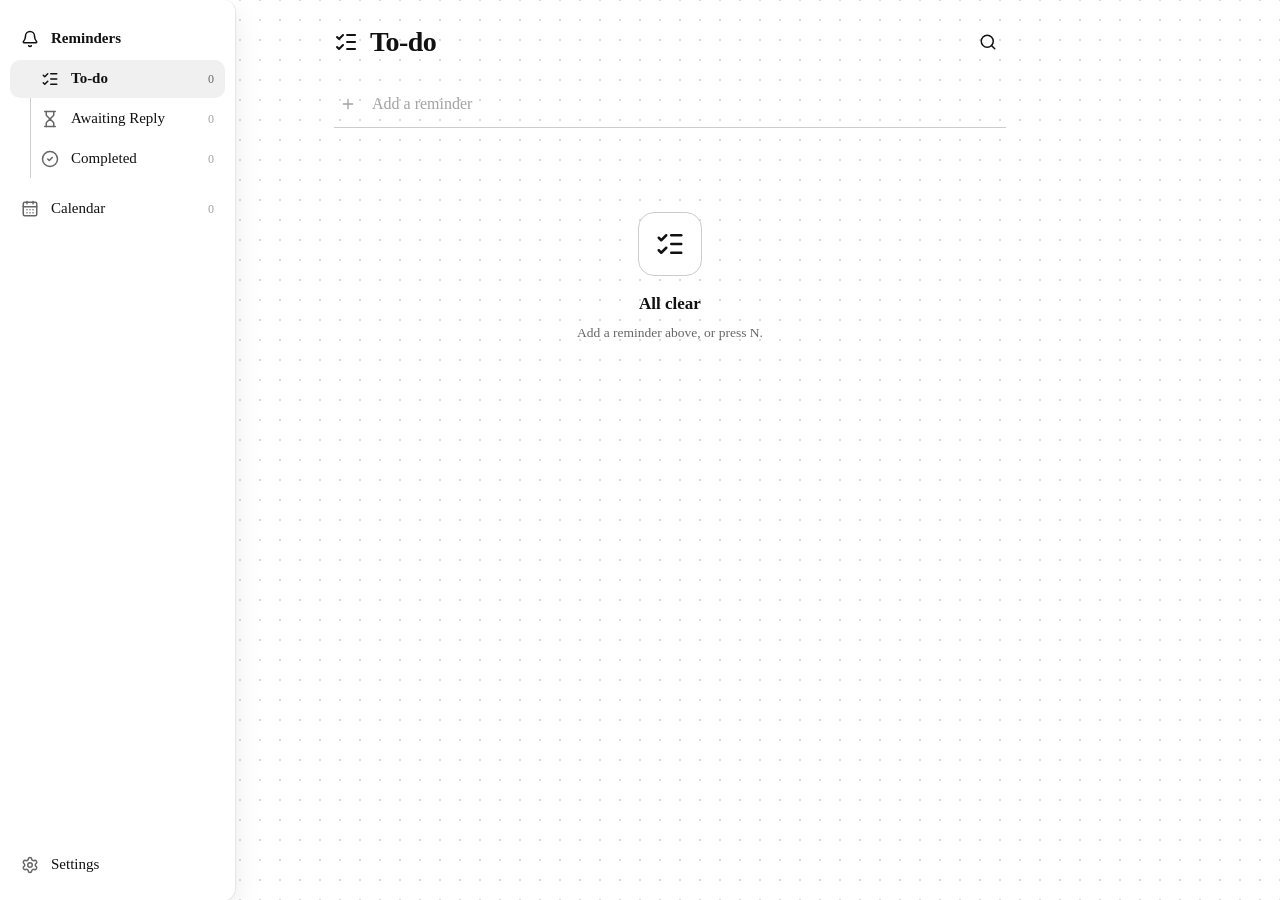
Test case: App › edits details inline
This screenshot has width=1280, height=900.
Type "Dentist" into the field named "Add to To-do" at (686,104), box x1=370 y1=91 x2=1002 y2=116
Then press Enter
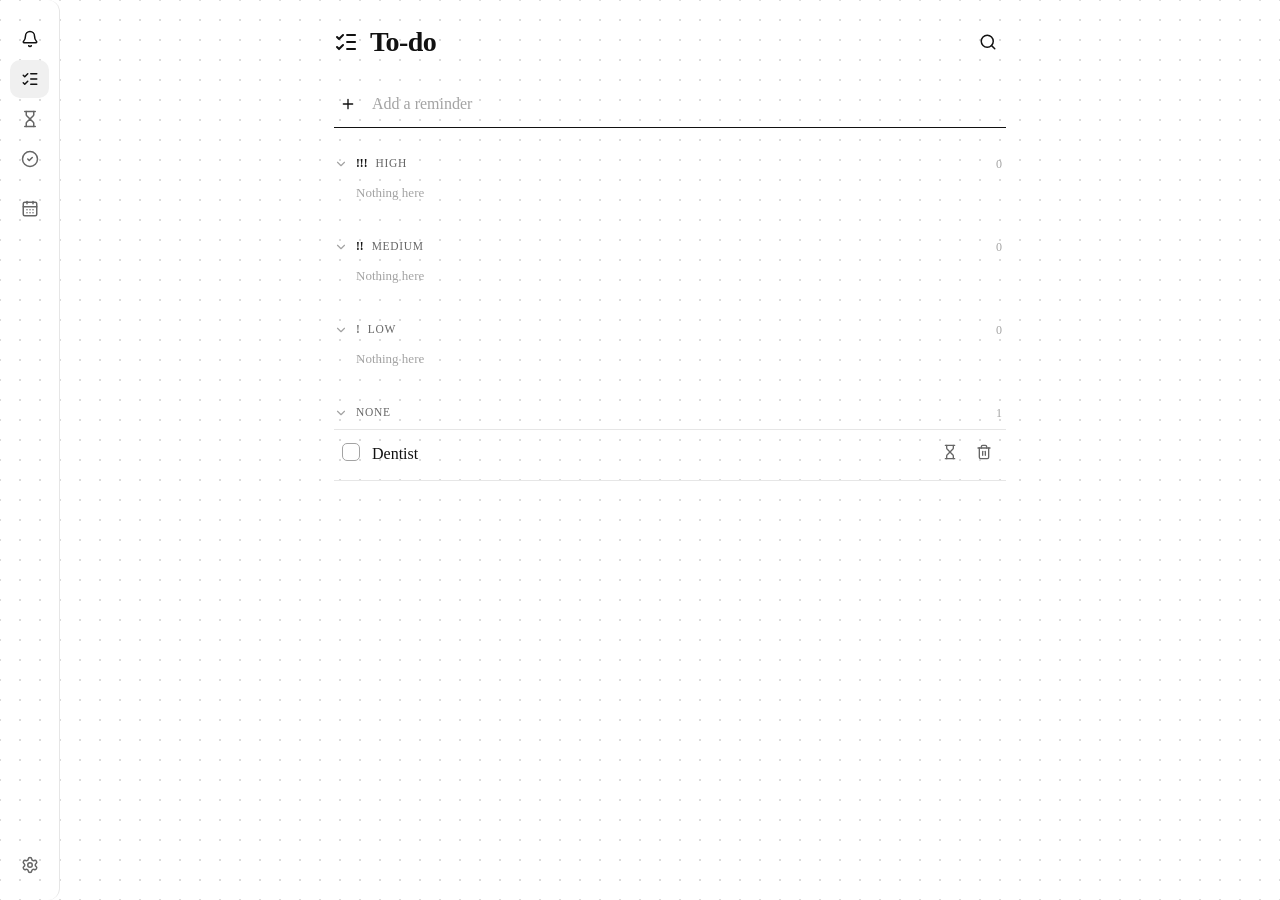
Click the button "Dentist" at (395,453), box x1=372 y1=442 x2=922 y2=465
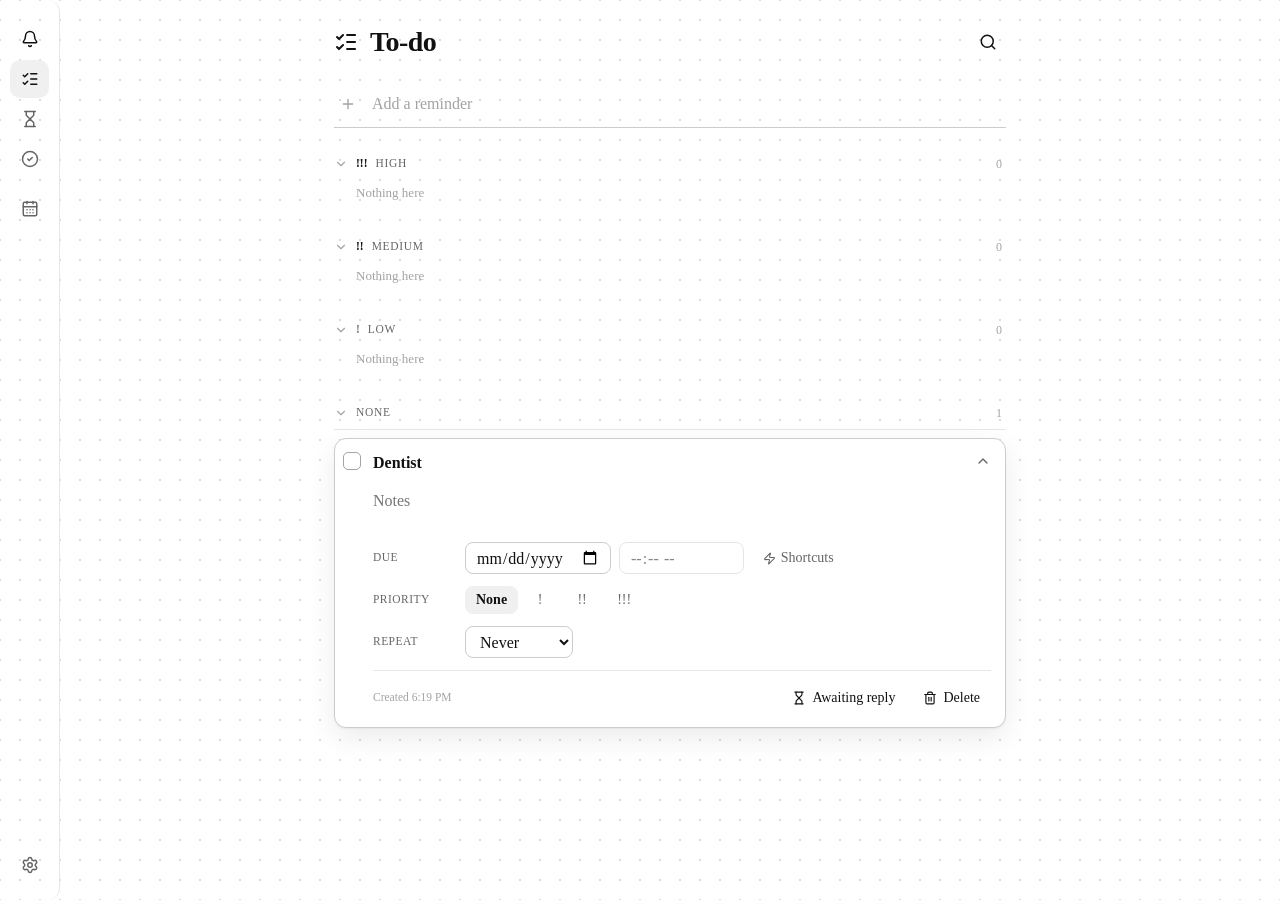
Type "Bring insurance card" into the text box labelled "Notes" at (682,509), box x1=373 y1=488 x2=991 y2=530
Click the button "!!!" at (624,600), box x1=604 y1=586 x2=644 y2=614
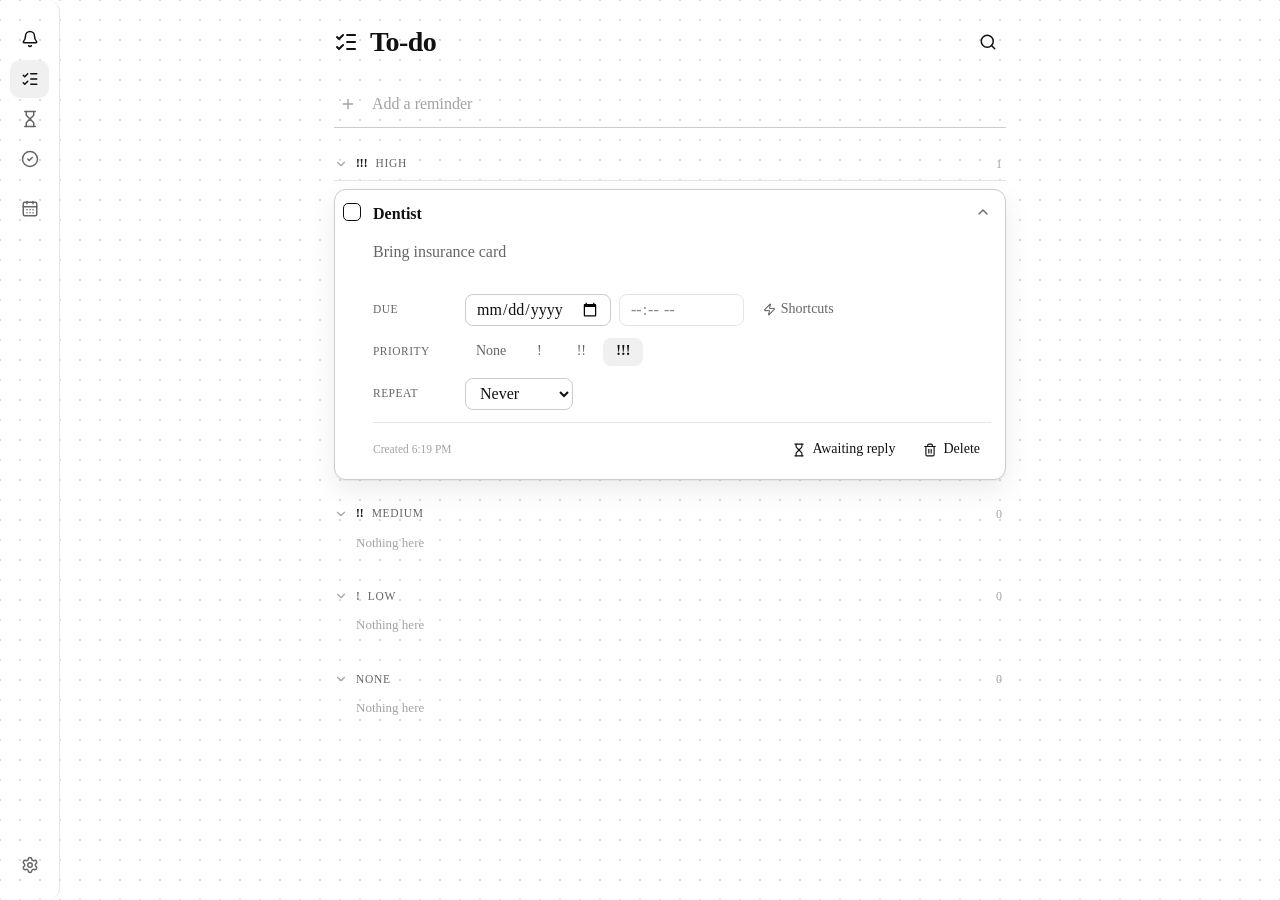
expect the button "Tomorrow" is not shown: met
Click the button "Shortcuts" at (798,310), box x1=752 y1=296 x2=845 y2=324
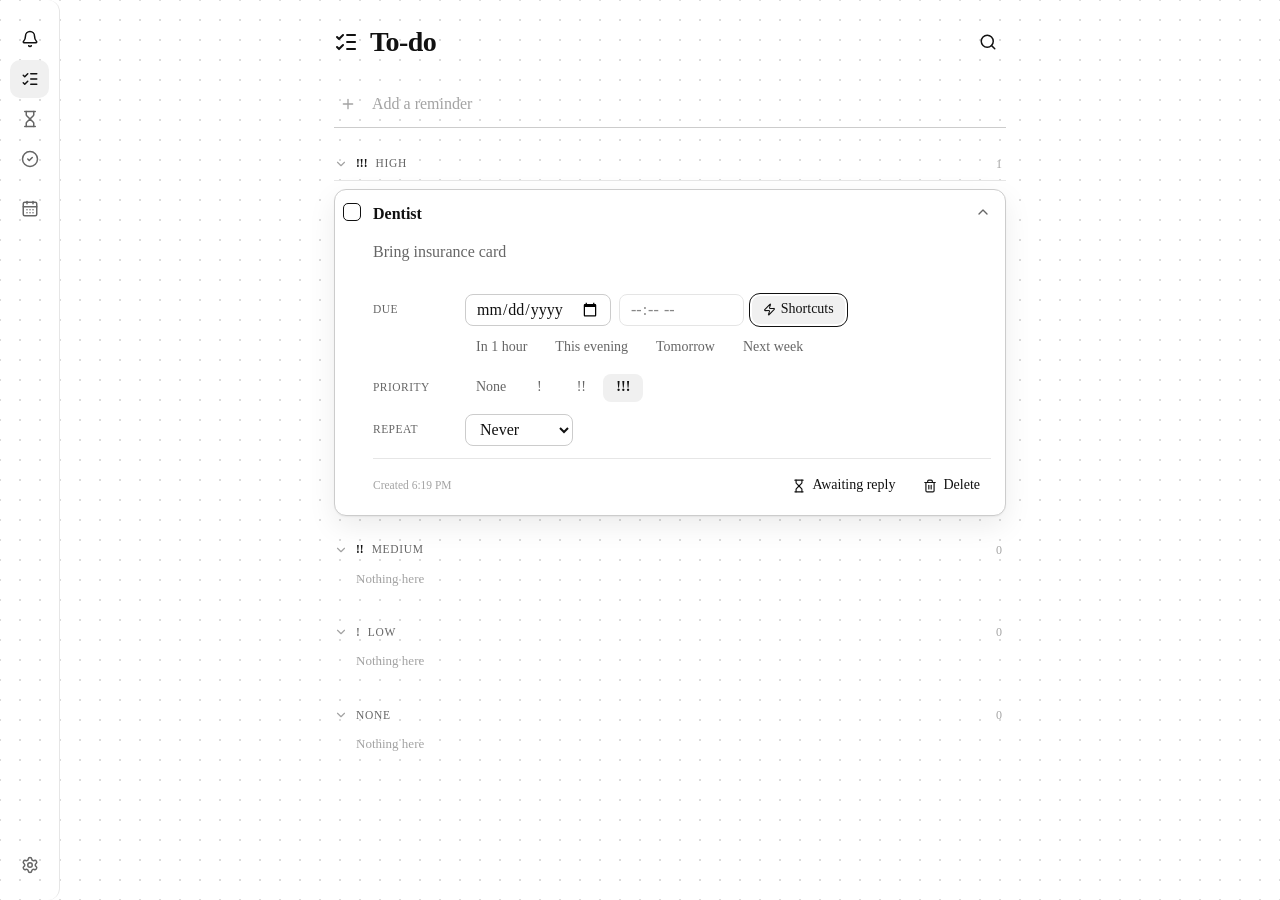
Click the button "Tomorrow" at (685,348), box x1=645 y1=334 x2=726 y2=362
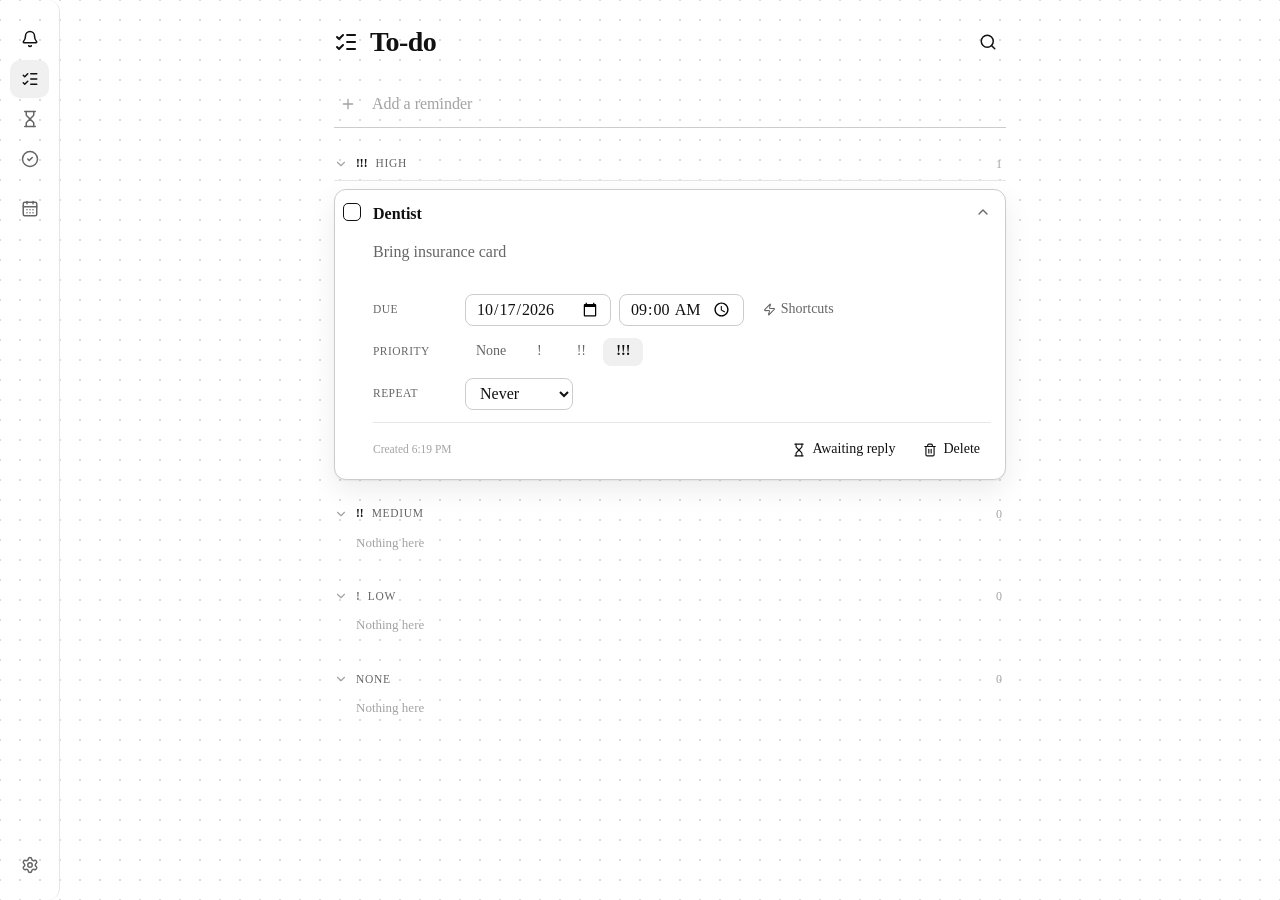
expect the button "Tomorrow" is gone: met
Click the button named "Close" at (983,212), box x1=967 y1=196 x2=999 y2=228
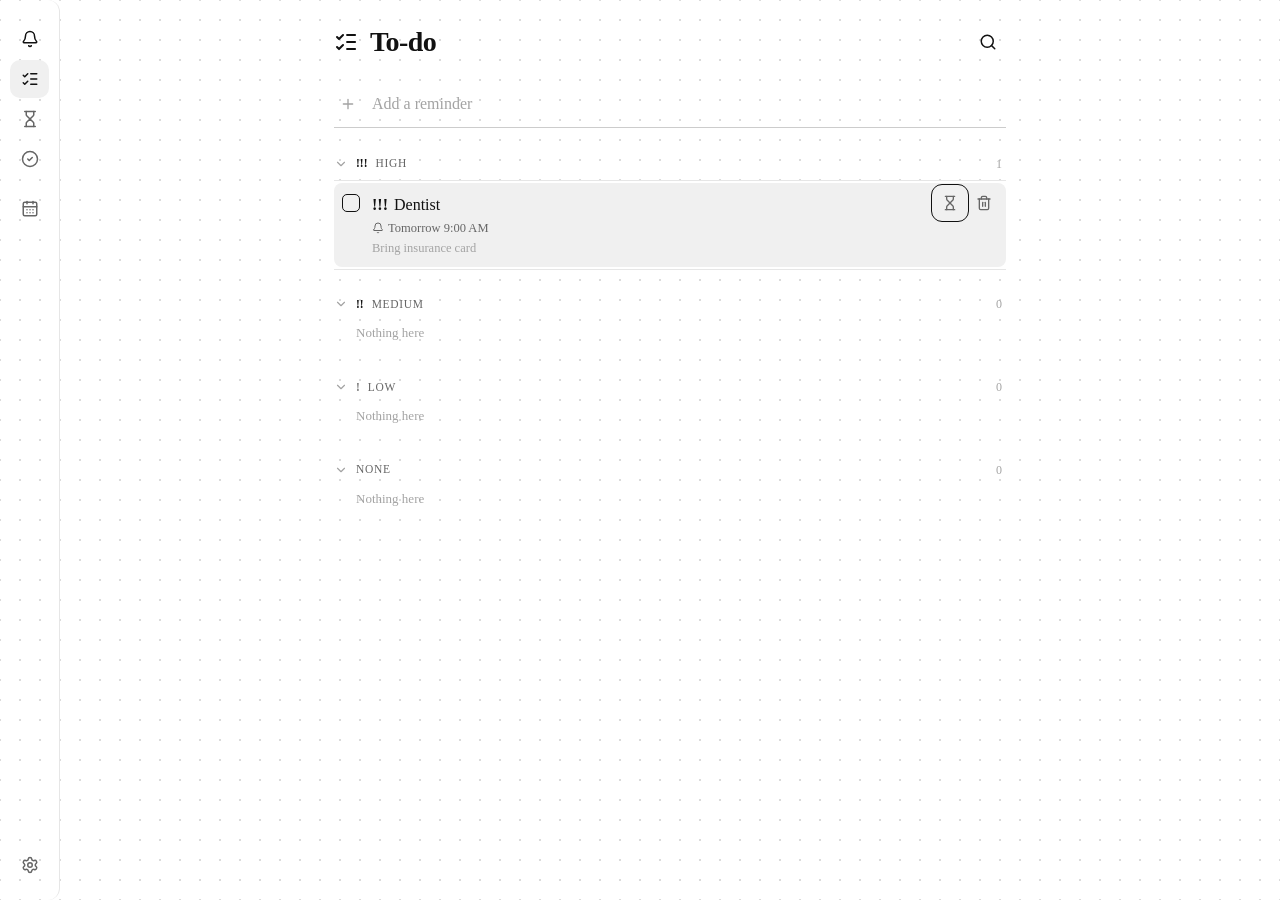
expect the text "Tomorrow 9:00 AM" is shown: met, box x1=372 y1=219 x2=488 y2=237
expect the text "Bring insurance card" is shown: met, box x1=372 y1=241 x2=476 y2=255
